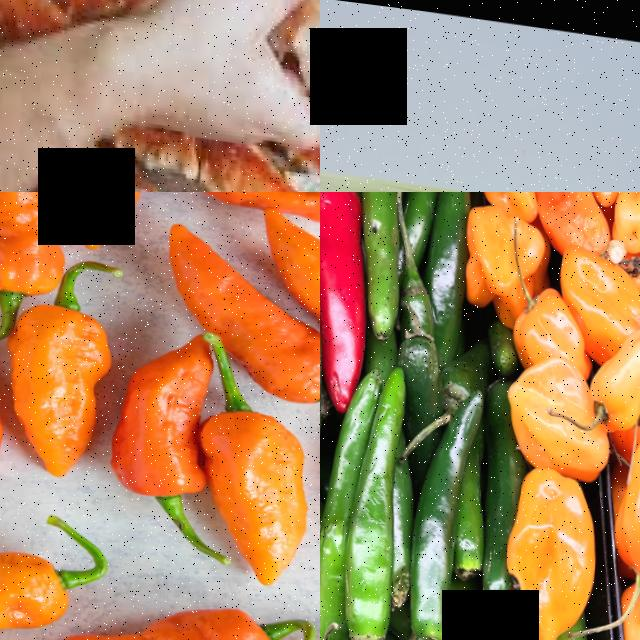chilli: (0, 281, 118, 479), (202, 387, 320, 583), (109, 309, 211, 519), (408, 365, 485, 637), (342, 352, 410, 640), (39, 572, 275, 640), (320, 192, 371, 398), (0, 192, 69, 297)
crab: (136, 126, 320, 192)
